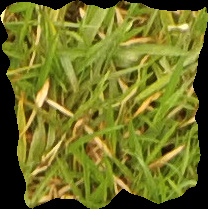grass: (1, 1, 206, 208)
